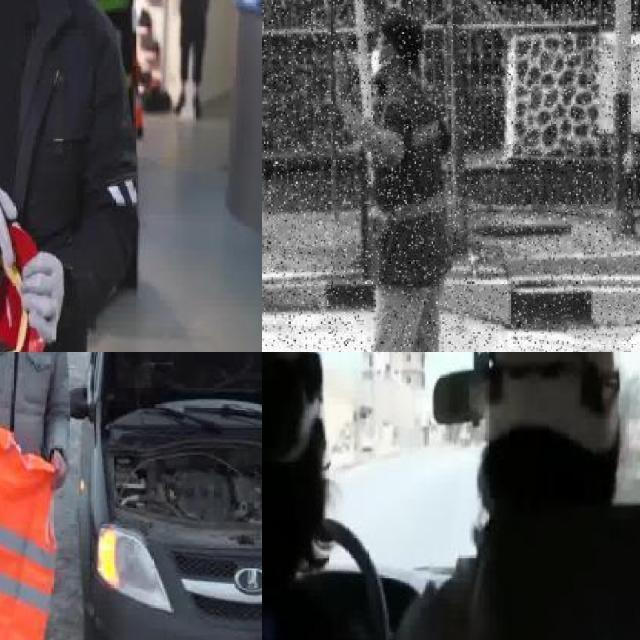apron: (19, 250, 65, 342), (0, 156, 20, 285)
